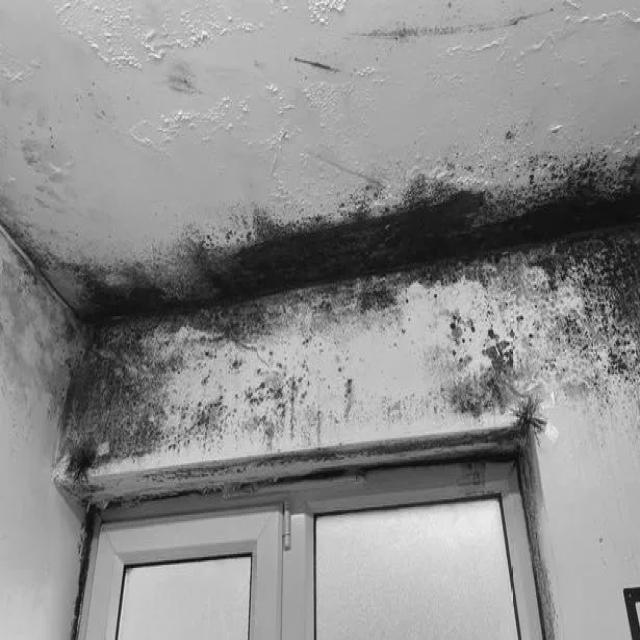stain marks: (0, 139, 640, 485), (520, 463, 556, 640), (65, 490, 100, 640)
